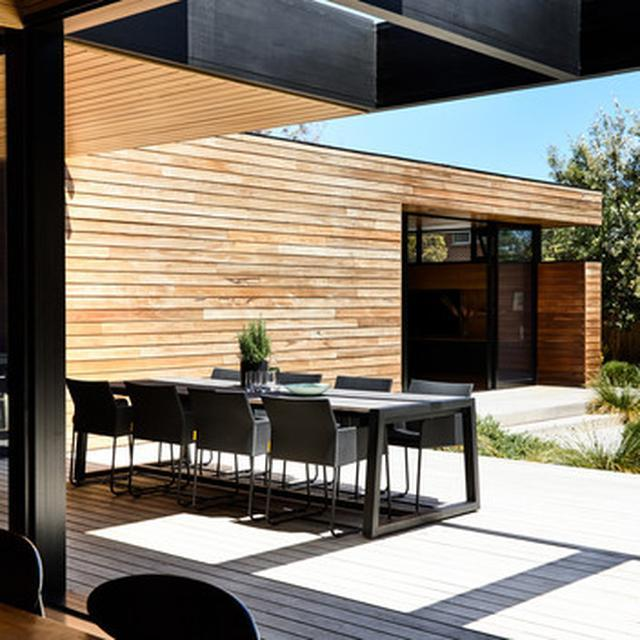building: (51, 125, 607, 404)
